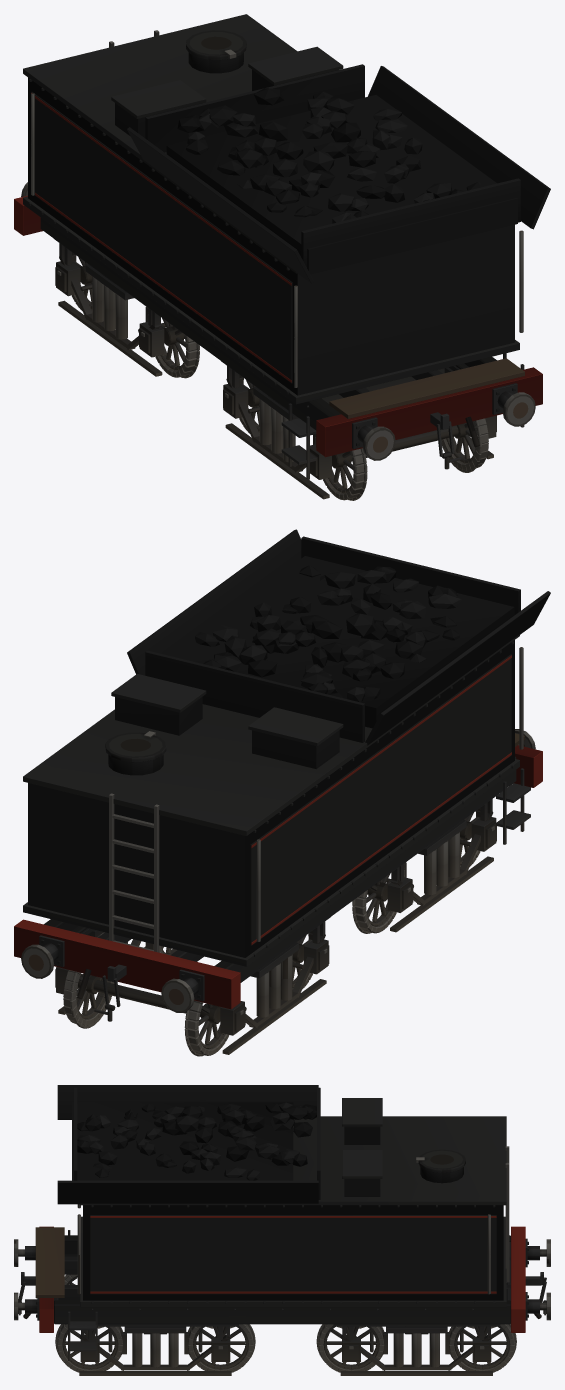
File: tender.glb
The picture shows the model from 3 angles, top to bottom: view 1: azimuth 30°, elevation 25°; view 2: azimuth 150°, elevation 25°; view 3: azimuth 270°, elevation 25°; orthographic projection. The views are drawn at different scales.
Visible parts, largest first — view 1: dark-tank-004, stone-coal-001, dark-buffers-002, dark-bogie-010, dark-bogie-005, dark-frame-001, dark-wheel-006, dark-wheel-007, dark-wheel-012, dark-buffers-003; view 2: dark-tank-004, stone-coal-001, dark-buffers-003, dark-bogie-010, dark-bogie-005, dark-frame-001, dark-wheel-013, dark-wheel-014, dark-wheel-009, dark-buffers-002; view 3: dark-tank-004, stone-coal-001, dark-frame-001, dark-bogie-010, dark-bogie-005, dark-buffers-003, dark-buffers-002, dark-wheel-011, dark-wheel-008, dark-wheel-013, dark-wheel-006.
Boxes of the visible parts, x1,y1,x2,y2 form: dark-tank-004: (23,14,550,479); stone-coal-001: (166,88,517,274); dark-buffers-002: (316,367,542,469); dark-bogie-010: (54,239,165,376); dark-bogie-005: (221,361,496,499); dark-frame-001: (40,217,496,430); dark-wheel-006: (351,418,488,472); dark-wheel-007: (314,434,367,500); dark-wheel-012: (147,312,199,378); dark-buffers-003: (14,182,42,235); dark-tank-004: (23,529,550,966); stone-coal-001: (169,556,514,728); dark-buffers-003: (14,919,240,1021); dark-bogie-010: (55,917,330,1054); dark-bogie-005: (386,796,496,932); dark-frame-001: (44,756,516,982); dark-wheel-013: (63,970,203,1028); dark-wheel-014: (184,1000,229,1056); dark-wheel-009: (352,868,404,933); dark-buffers-002: (513,729,542,787); dark-tank-004: (35,1085,509,1360); stone-coal-001: (72,1102,316,1180); dark-frame-001: (54,1235,510,1324); dark-bogie-010: (333,1324,500,1375); dark-bogie-005: (79,1324,238,1375); dark-buffers-003: (511,1226,550,1332); dark-buffers-002: (14,1226,53,1332); dark-wheel-011: (316,1324,384,1372); dark-wheel-008: (188,1324,255,1372); dark-wheel-013: (449,1324,516,1372); dark-wheel-006: (55,1324,122,1372).
Bounding box in the file's own units: 3.19 × 3.49 × 7.4.
